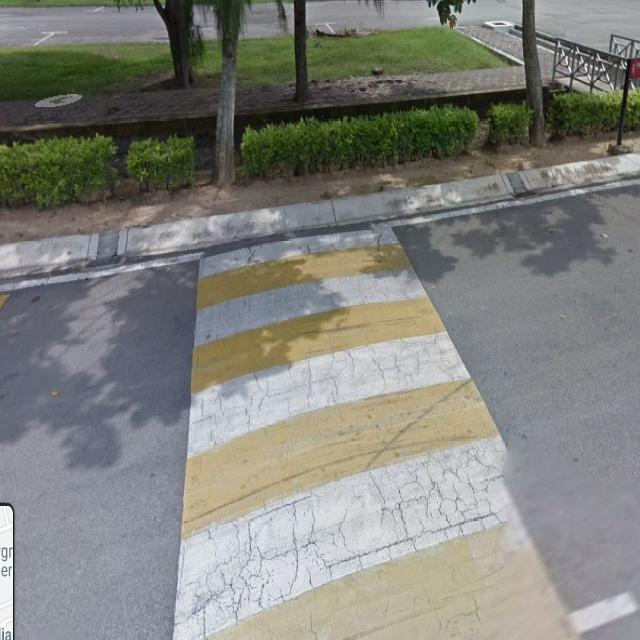speed-bump: (147, 240, 628, 640)
